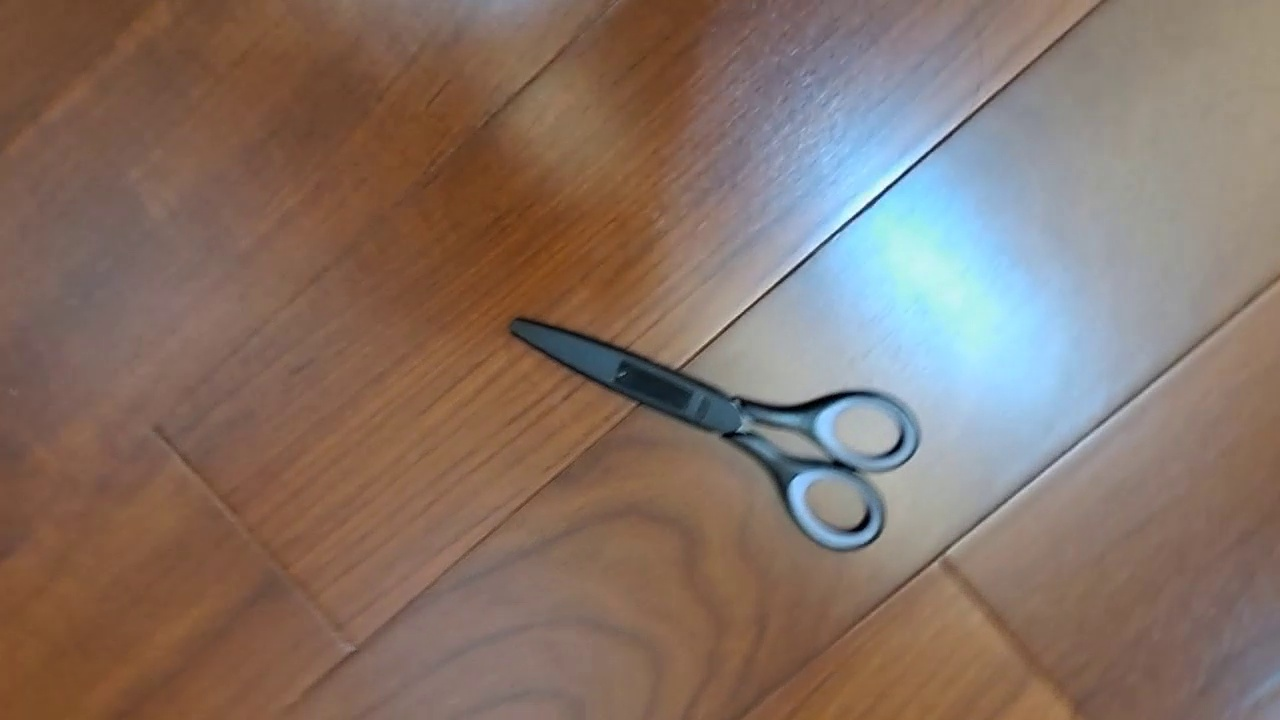scissors: (508, 316, 922, 553)
